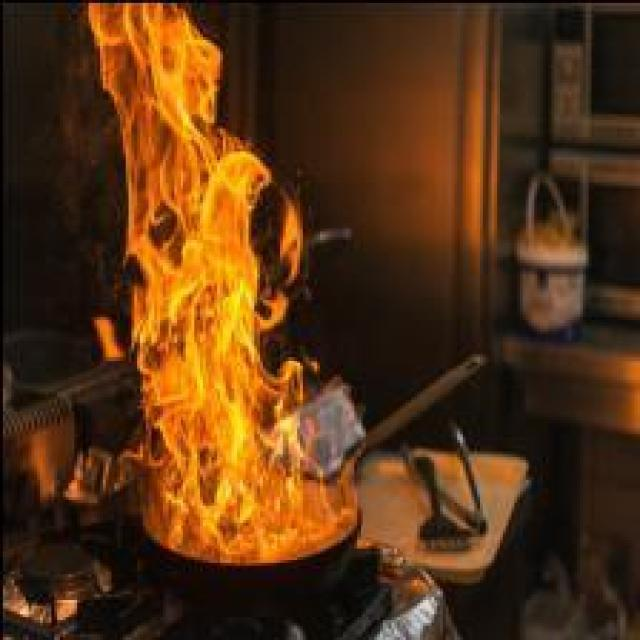Fire: (64, 0, 361, 566)
